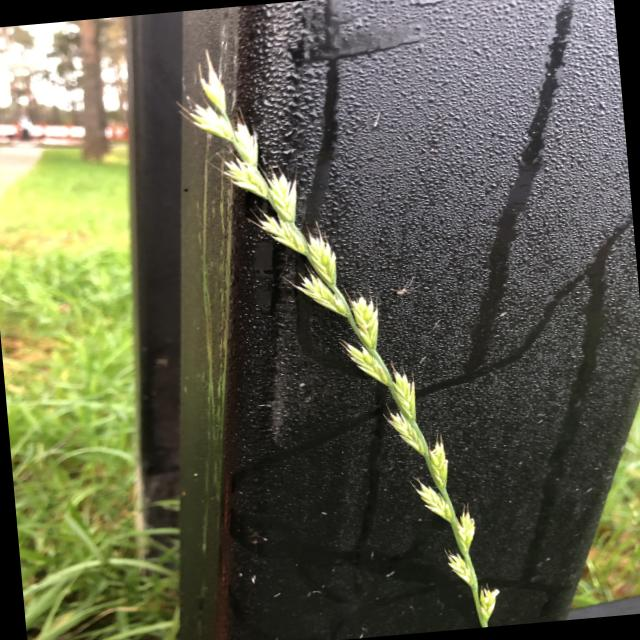Lolium: (167, 26, 504, 640)
